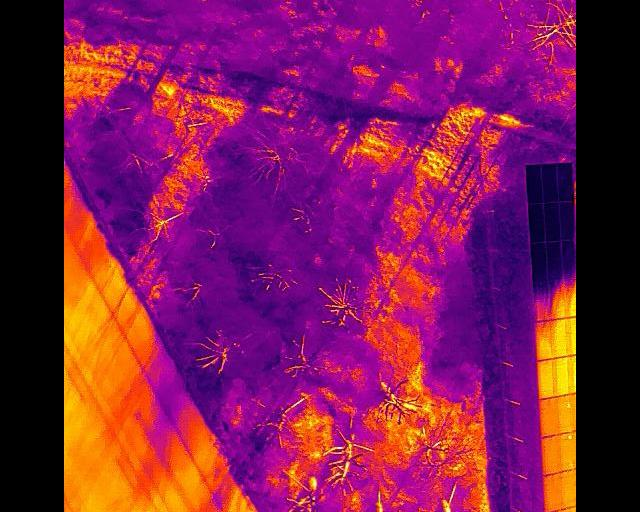Cell: (554, 395, 570, 433)
Cell-Multi: (557, 432, 573, 470)
No-Anomaly: (543, 472, 564, 512), (535, 320, 552, 360), (553, 356, 568, 398), (537, 360, 553, 399), (552, 317, 567, 358), (539, 398, 555, 436), (542, 435, 557, 473)
Shadowing: (556, 163, 573, 202), (530, 242, 547, 281), (543, 201, 559, 241), (541, 163, 557, 203), (526, 164, 542, 203), (559, 201, 575, 240), (549, 280, 564, 320), (547, 240, 562, 280), (528, 202, 543, 242), (535, 281, 549, 321), (562, 239, 576, 277)
